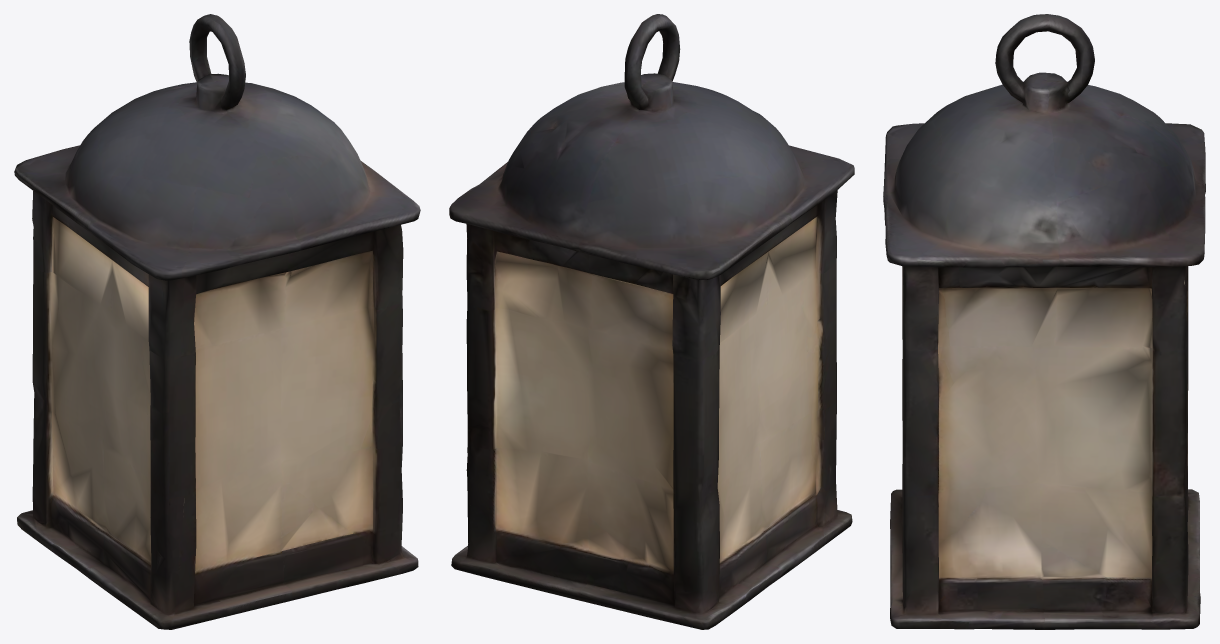
File: stratum-lantern-web-256.glb
3 renders of one model, left to right at view 1: azimuth 30°, elevation 25°; view 2: azimuth 150°, elevation 25°; view 3: azimuth 270°, elevation 25°, orthographic. The views are drawn at different scales.
Parts seen in each view (by area): view 1: tripo_node_091f83d7-ba88-47d6-b014-1d84d2254a40; view 2: tripo_node_091f83d7-ba88-47d6-b014-1d84d2254a40; view 3: tripo_node_091f83d7-ba88-47d6-b014-1d84d2254a40.
Part boxes in pixels (<box>): tripo_node_091f83d7-ba88-47d6-b014-1d84d2254a40: <box>14,14,420,629</box>; tripo_node_091f83d7-ba88-47d6-b014-1d84d2254a40: <box>449,14,854,629</box>; tripo_node_091f83d7-ba88-47d6-b014-1d84d2254a40: <box>883,14,1205,629</box>.
Bounding box in the file's own units: 0.5348 × 0.9998 × 0.5316.
1 material, 1 textured.
